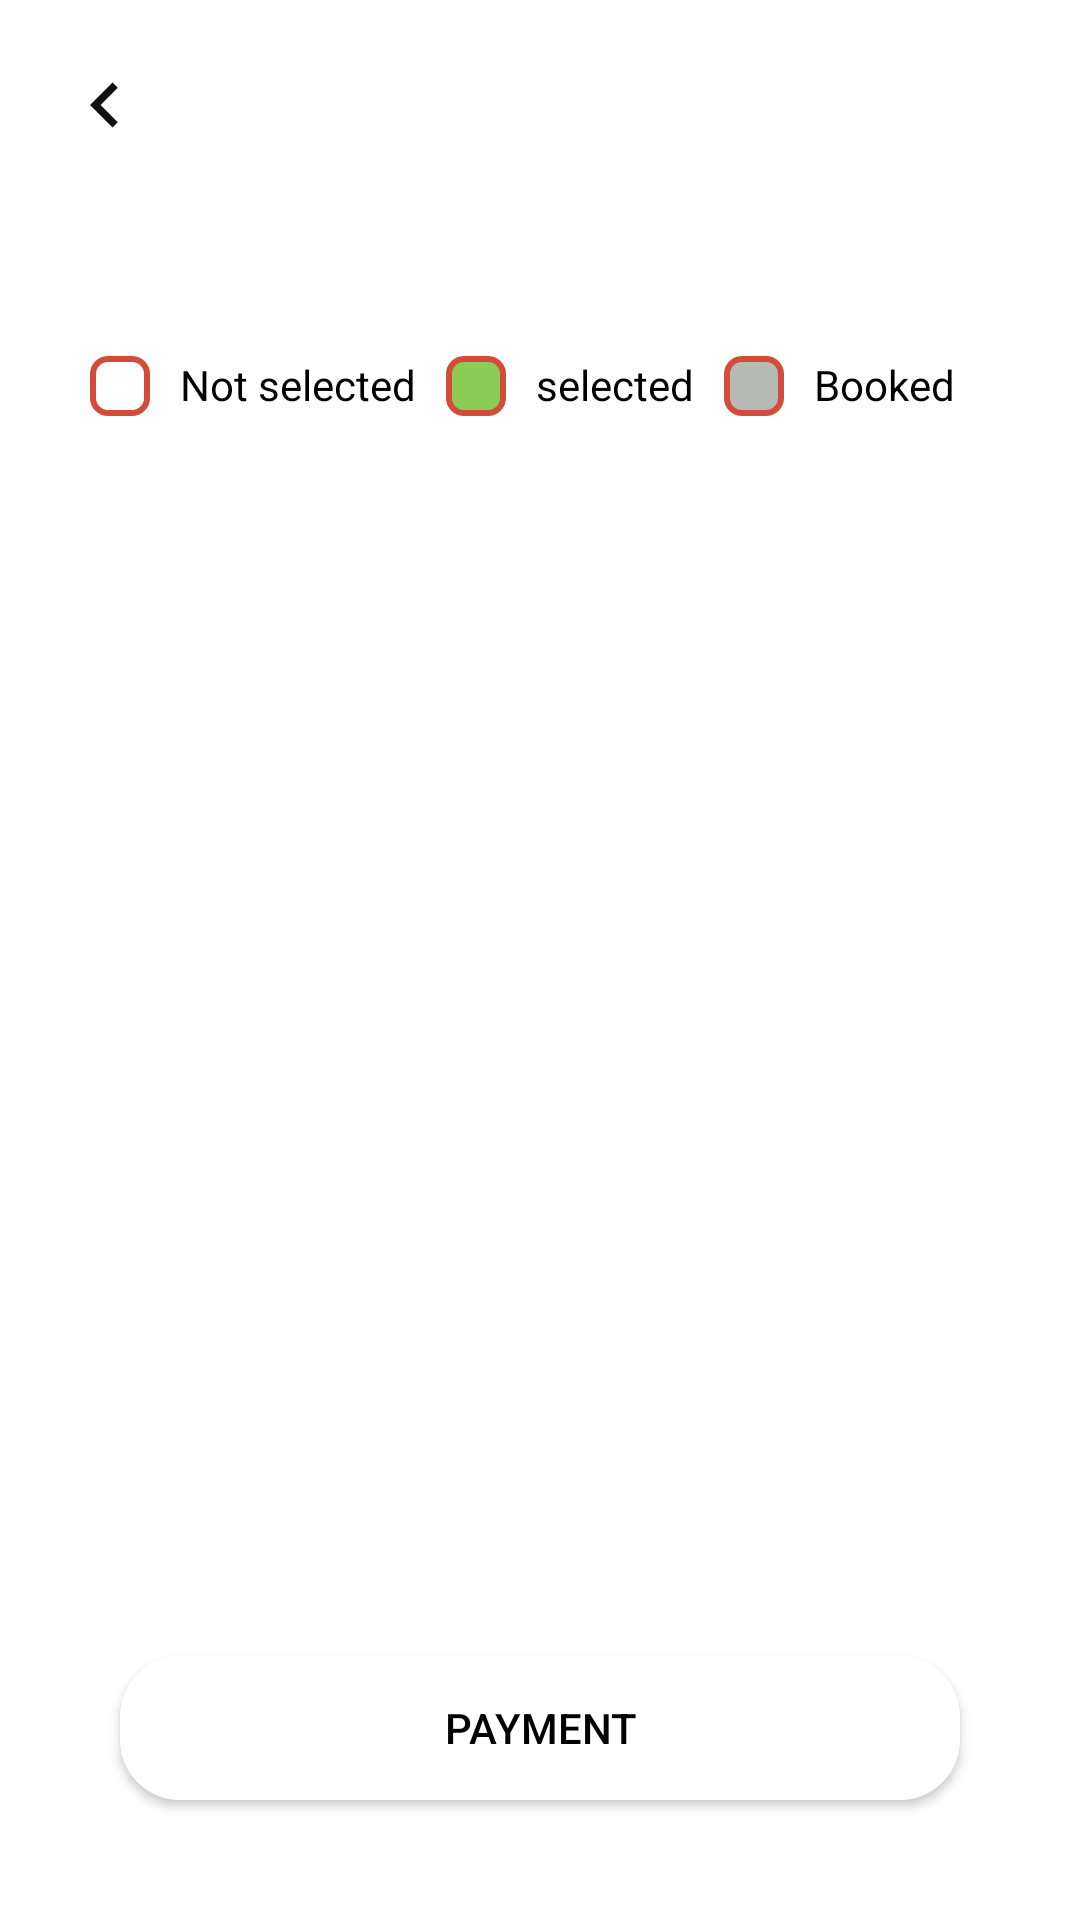

Where icons sit on this 1080 x 1920 app screen, as detection(x1, y1, x2, y2):
left arrow: detection(90, 82, 118, 128)
seat square: detection(90, 356, 150, 416), detection(446, 356, 506, 416), detection(724, 356, 784, 416)
